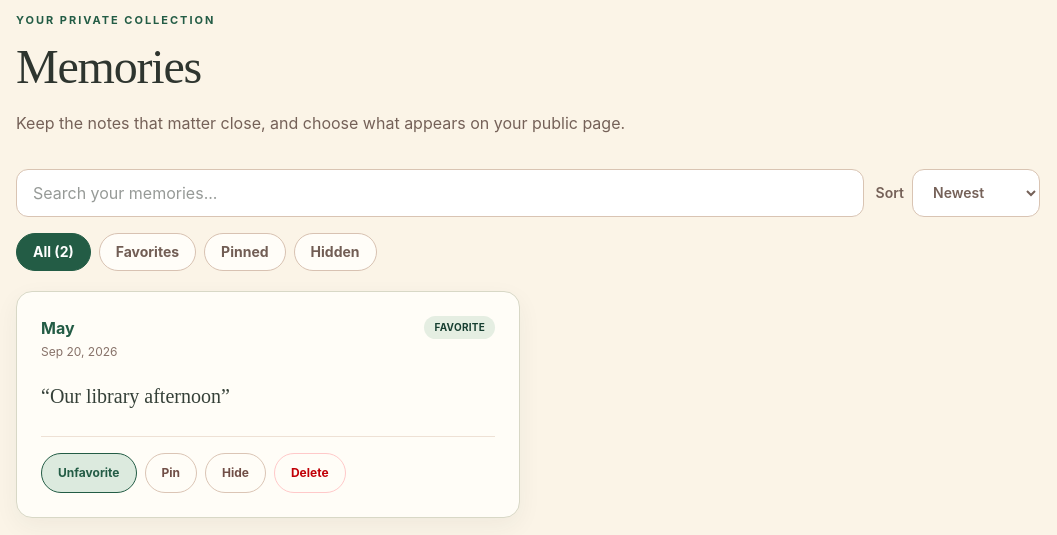
it: memory management page › searches and filters owned memories
This screenshot has width=1057, height=535.
Type "library" into the search field with placeholder "Search your memories...". click: [440, 192]
box: left=16, top=168, right=864, bottom=216
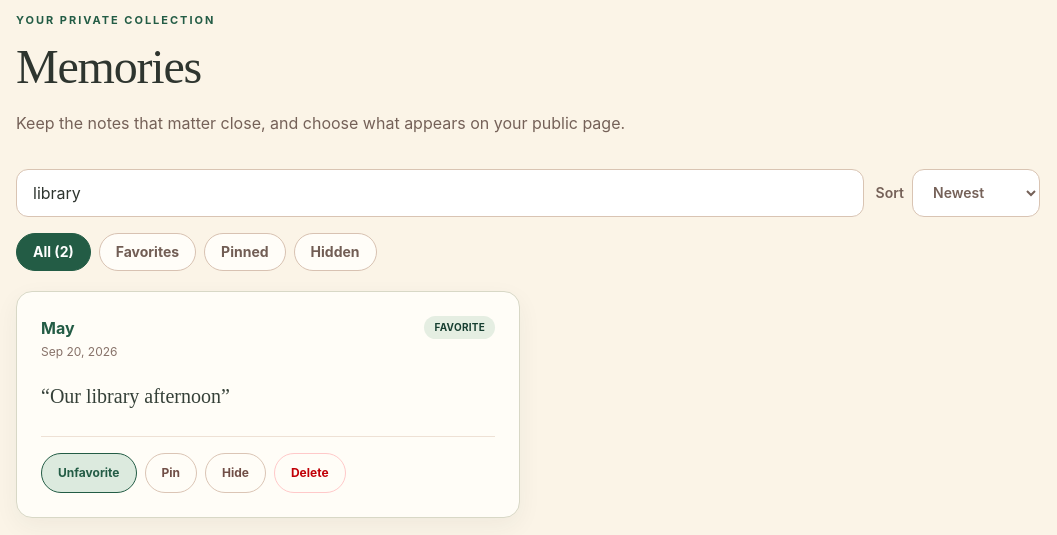
Expected: the text "“Our library afternoon”" is shown, left=41, top=384, right=230, bottom=406
Clear the search field with placeholder "Search your memories...". click: [440, 192]
box: left=16, top=168, right=864, bottom=216
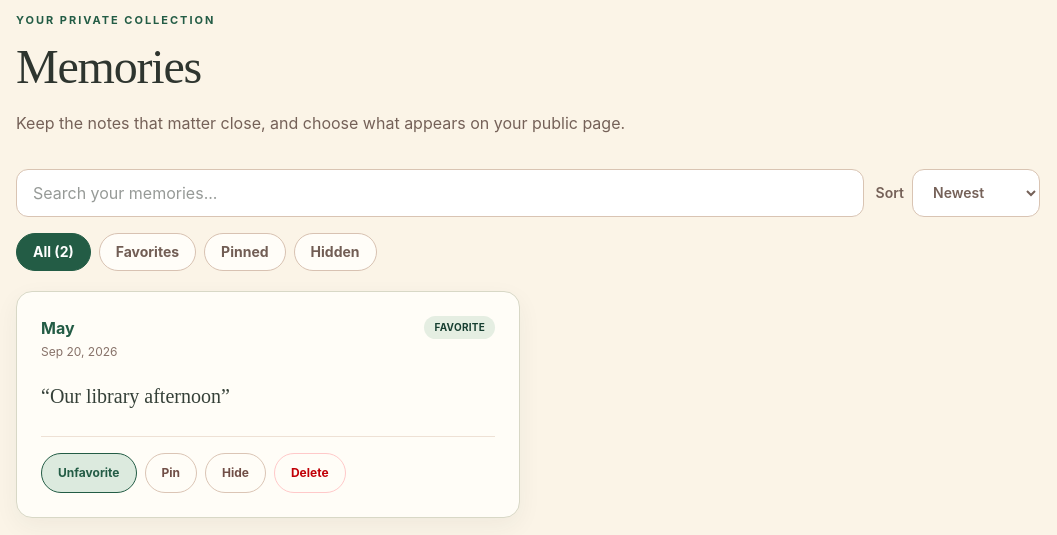
Click the button "Hidden". click: [335, 252]
box: left=294, top=232, right=376, bottom=270
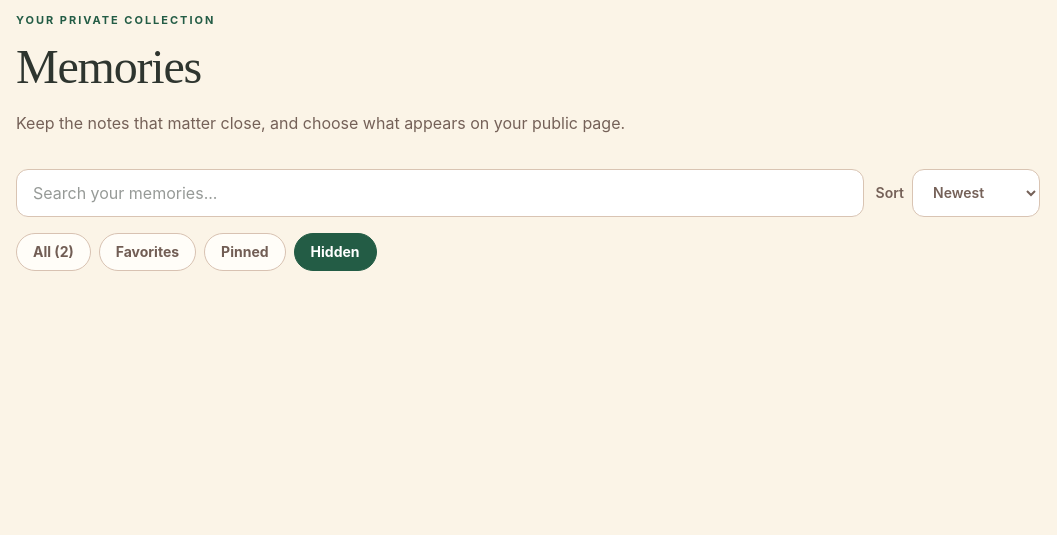
Now the text "Our library afternoon" is gone
